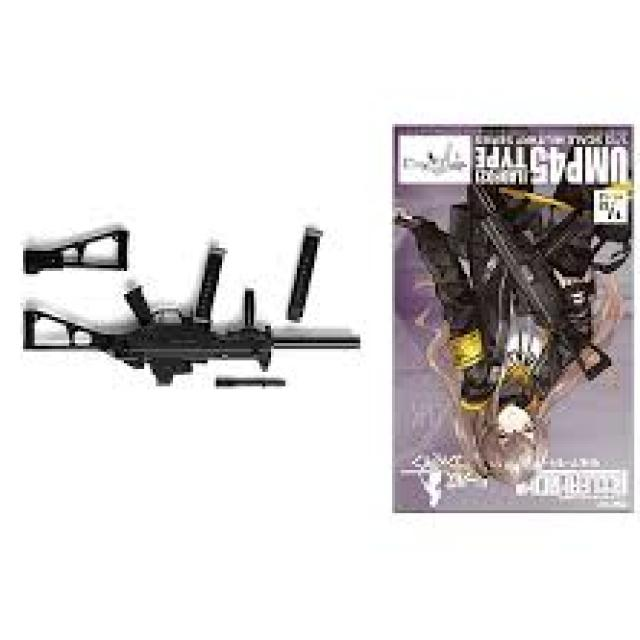Gun: (4, 215, 366, 388)
